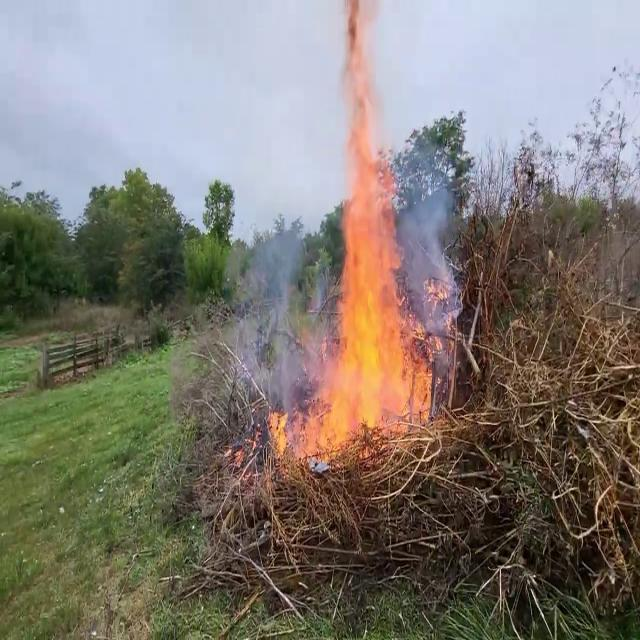Fire: (304, 95, 438, 442)
